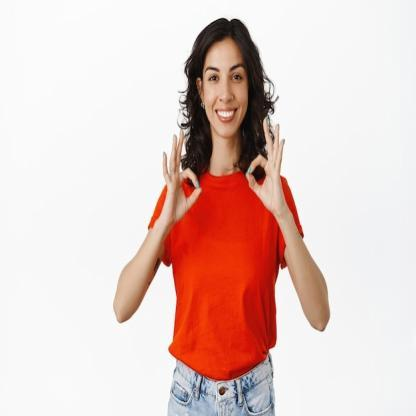ok: (160, 124, 202, 226), (244, 116, 288, 210)
